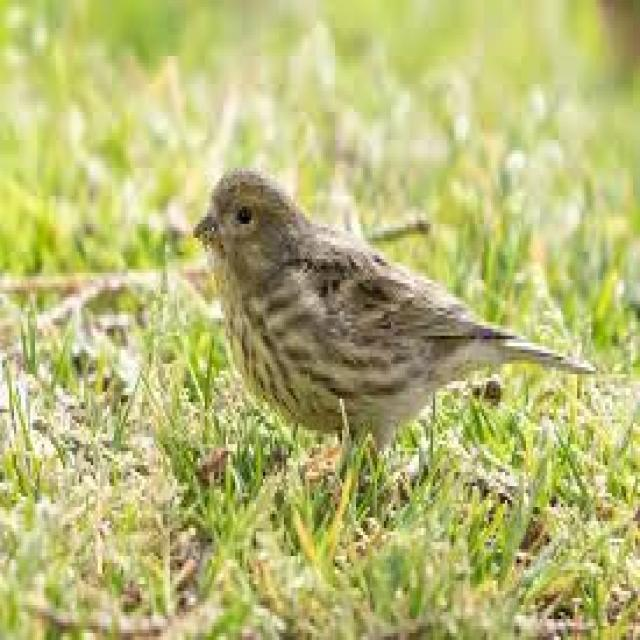bird: (128, 98, 624, 493)
